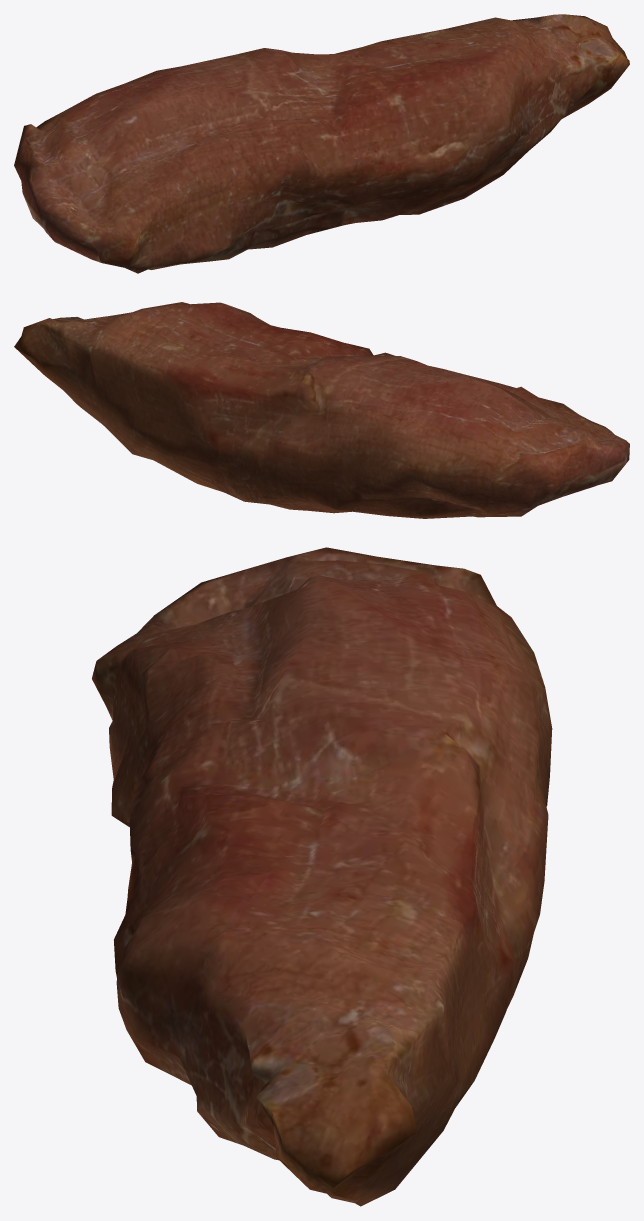
File: meat_e.glb
3 views of the same model, one above another, from view 1: azimuth 30°, elevation 25°; view 2: azimuth 150°, elevation 25°; view 3: azimuth 270°, elevation 25° (orthographic). The views are drawn at different scales.
Parts seen in each view (by area): view 1: weuhdcyaa_LOD0_TIER2_000; view 2: weuhdcyaa_LOD0_TIER2_000; view 3: weuhdcyaa_LOD0_TIER2_000.
Part boxes in pixels (box(x1,y1,x2,y2)): weuhdcyaa_LOD0_TIER2_000: box(14, 14, 629, 273); weuhdcyaa_LOD0_TIER2_000: box(14, 302, 629, 518); weuhdcyaa_LOD0_TIER2_000: box(92, 547, 552, 1206).
Bounding box in the file's own units: 0.3512 × 0.09 × 0.1209.
1 material, 1 textured.
